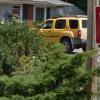Car: (30, 12, 89, 52)
